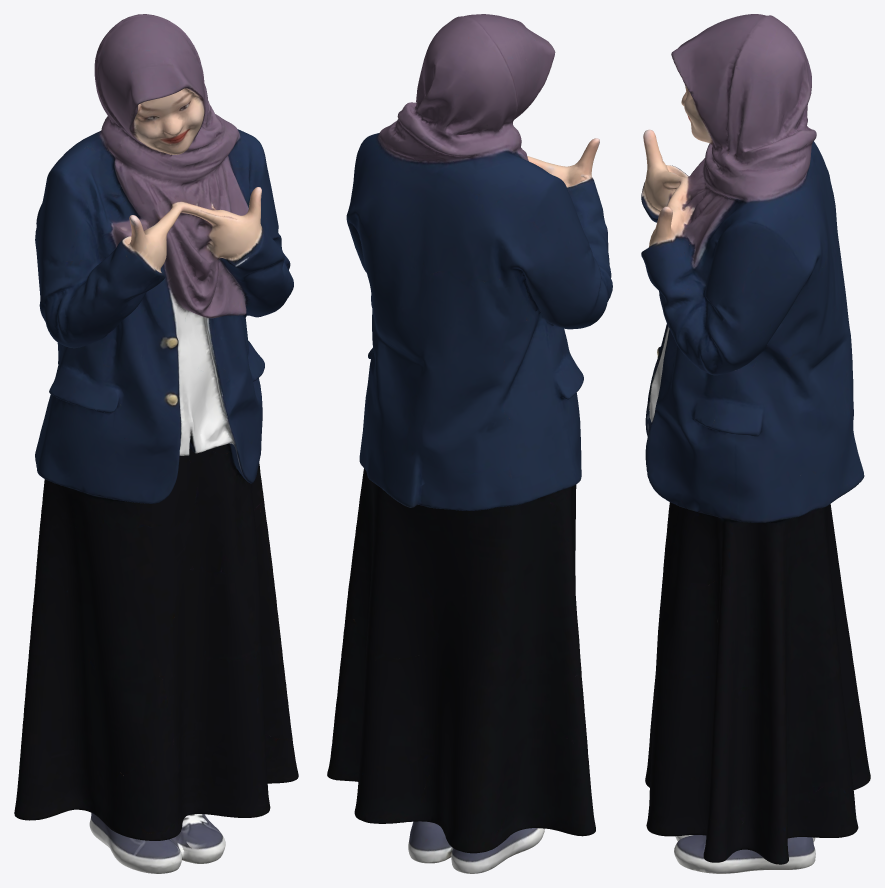
Rendered from rahmi.glb.
3 views of the same model, side by side, from view 1: azimuth 30°, elevation 25°; view 2: azimuth 150°, elevation 25°; view 3: azimuth 270°, elevation 25° (orthographic).
Size of the model in its own units: 0.6225 by 1.9 by 0.4758.
1 material, 1 textured.
